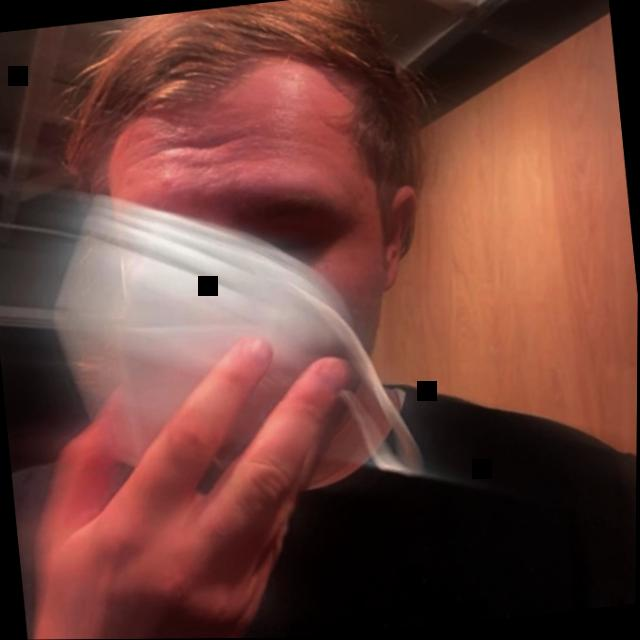Mask: (19, 0, 483, 559)
